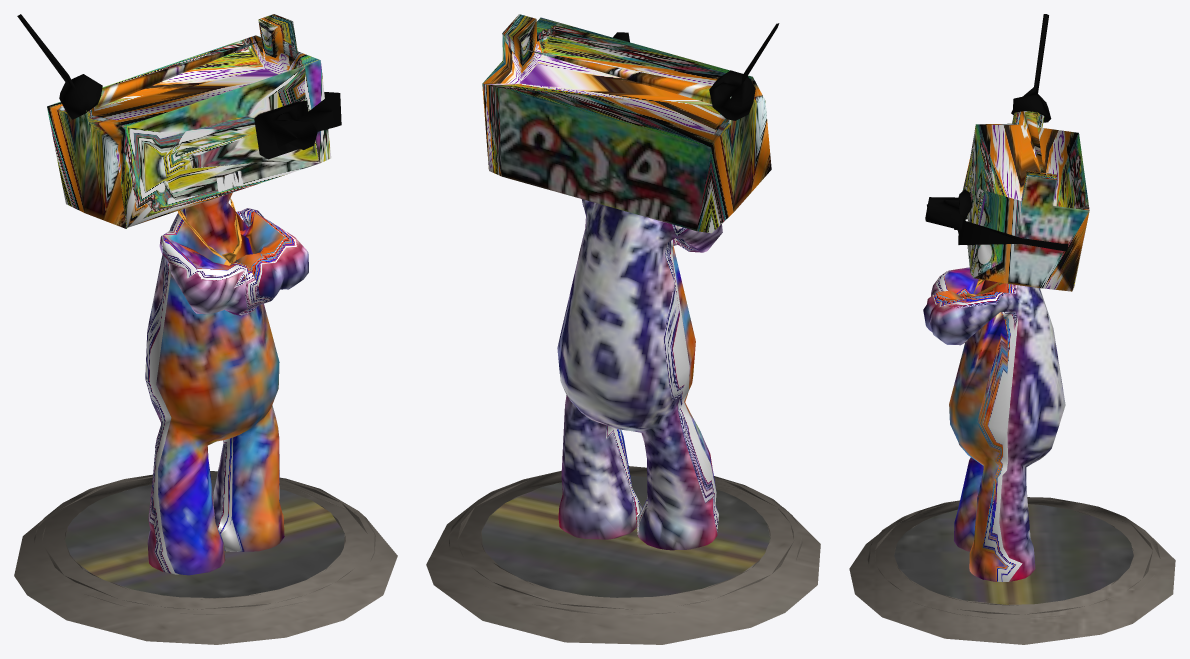
The picture shows the model from 3 angles, left to right: view 1: azimuth 30°, elevation 25°; view 2: azimuth 150°, elevation 25°; view 3: azimuth 270°, elevation 25°; orthographic projection. The views are drawn at different scales.
Size of the model in its own units: 1.45 by 2.38 by 1.43.
Materials: 7 (5 with a texture image).
